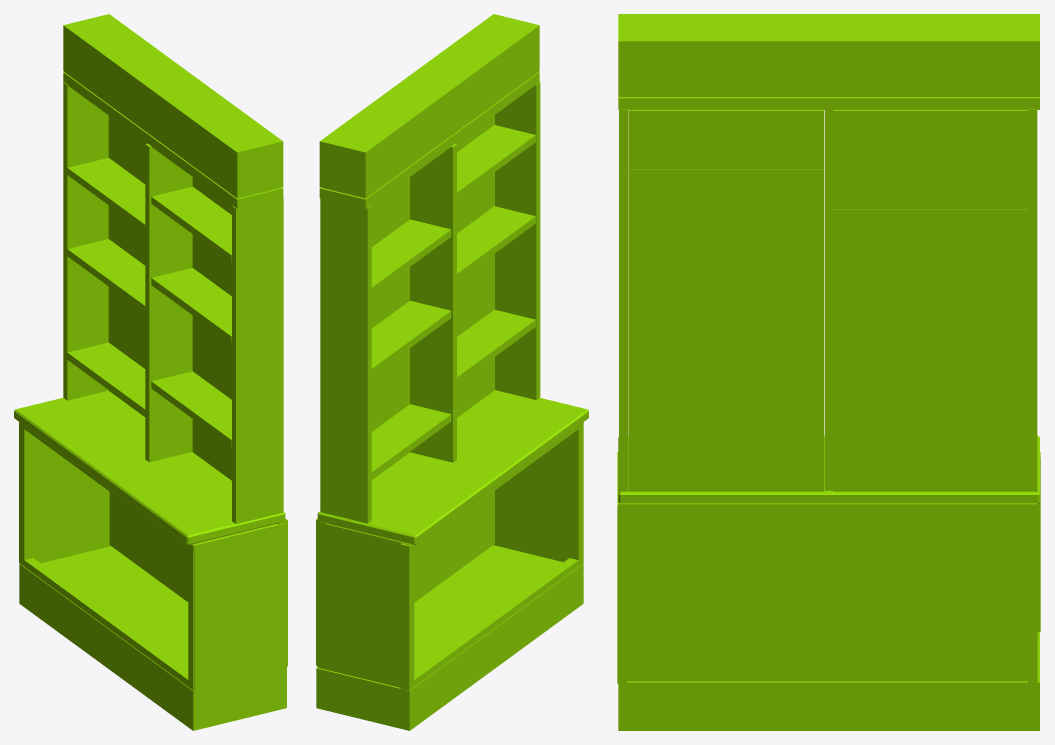
File: Bookcase_02.fbx
The picture shows the model from 3 angles, left to right: view 1: azimuth 30°, elevation 25°; view 2: azimuth 150°, elevation 25°; view 3: azimuth 270°, elevation 25°; orthographic projection. The views are drawn at different scales.
Visible parts, largest first — view 1: Bookcase_02; view 2: Bookcase_02; view 3: Bookcase_02.
Part boxes in pixels (x1=…): Bookcase_02: x1=14, y1=14, x2=287, y2=730; Bookcase_02: x1=316, y1=14, x2=588, y2=730; Bookcase_02: x1=617, y1=14, x2=1040, y2=730.
Size of the model in its own units: 48.51 by 261 by 146.
